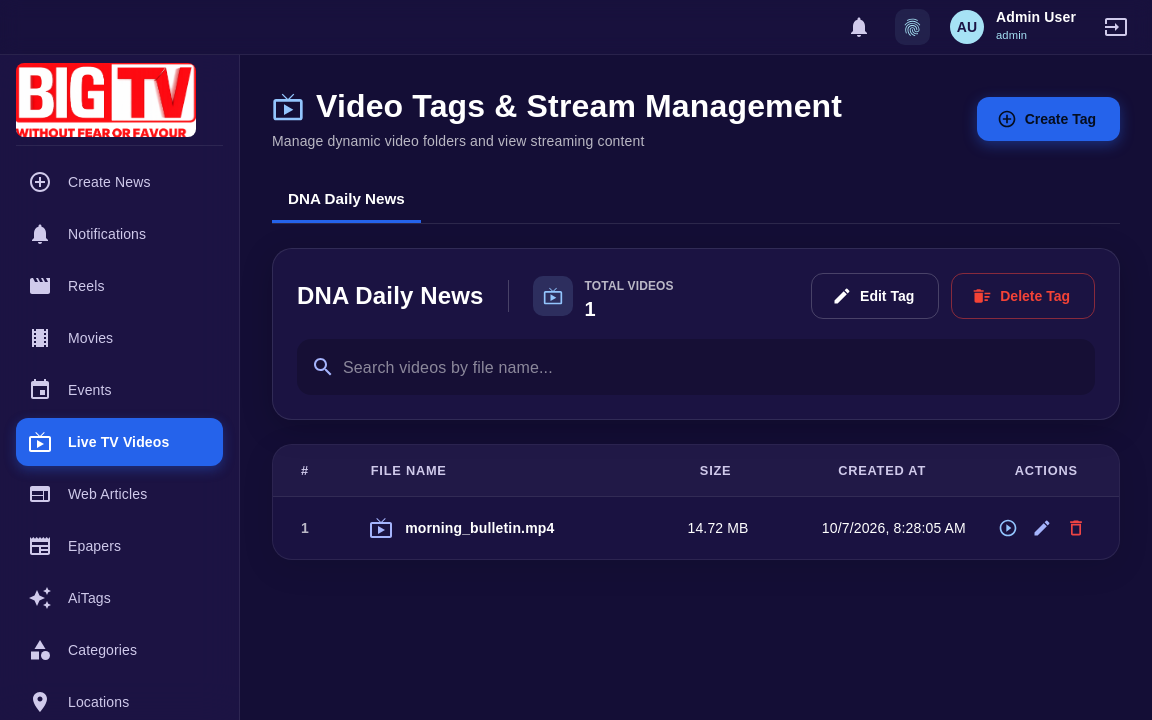
Test case: LiveTvVideos Module - Folder-Based Video Tags Integration › handles alert dismissals in LiveTvVideosPage
expect the heading "Video Tags & Stream Management" is shown: met, box [316,87,842,126]
Click the button "Edit Tag": (875, 296) [811,272,939,319]
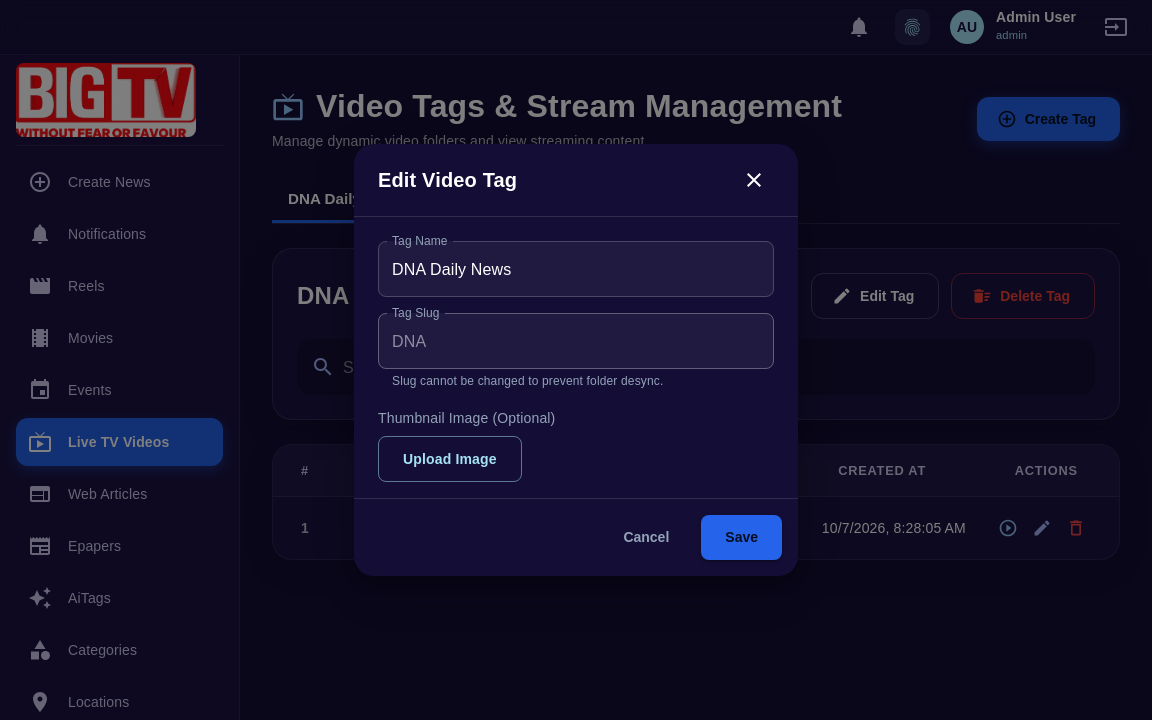
expect the text "Edit Video Tag" is shown: met, box [378,164,517,196]
Click the button "Save": (742, 538) [701,516,782,560]
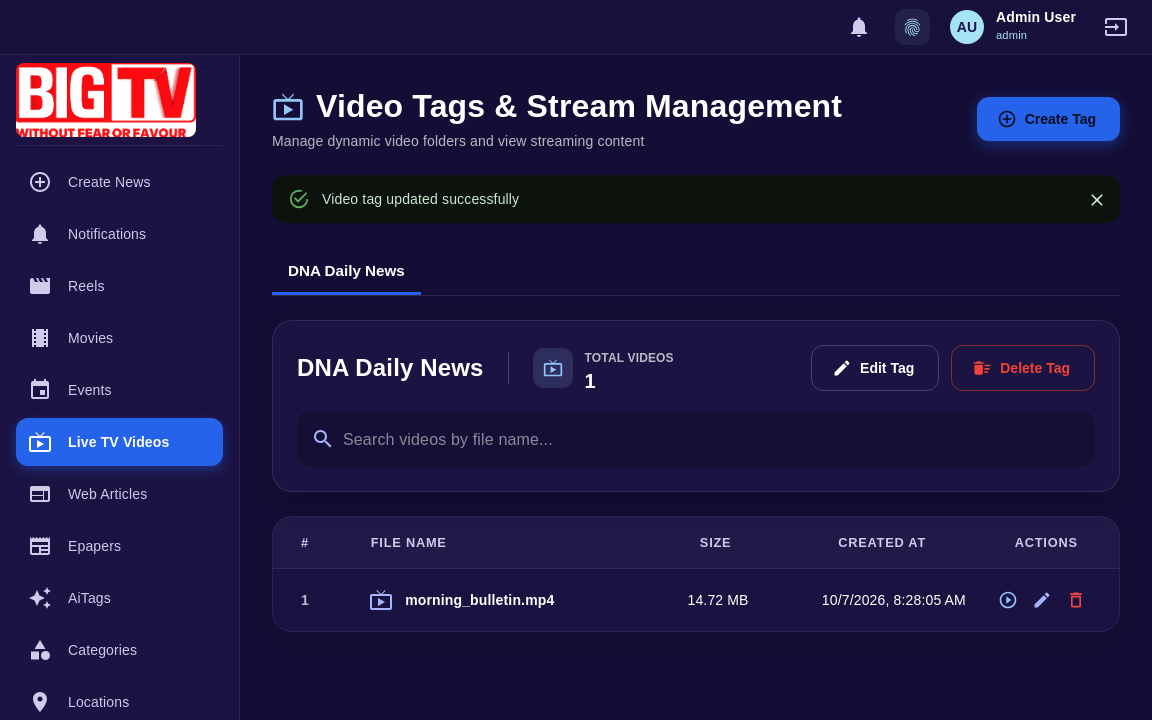
expect the text "Video tag updated successfully" is shown: met, box [322,190,519,206]
